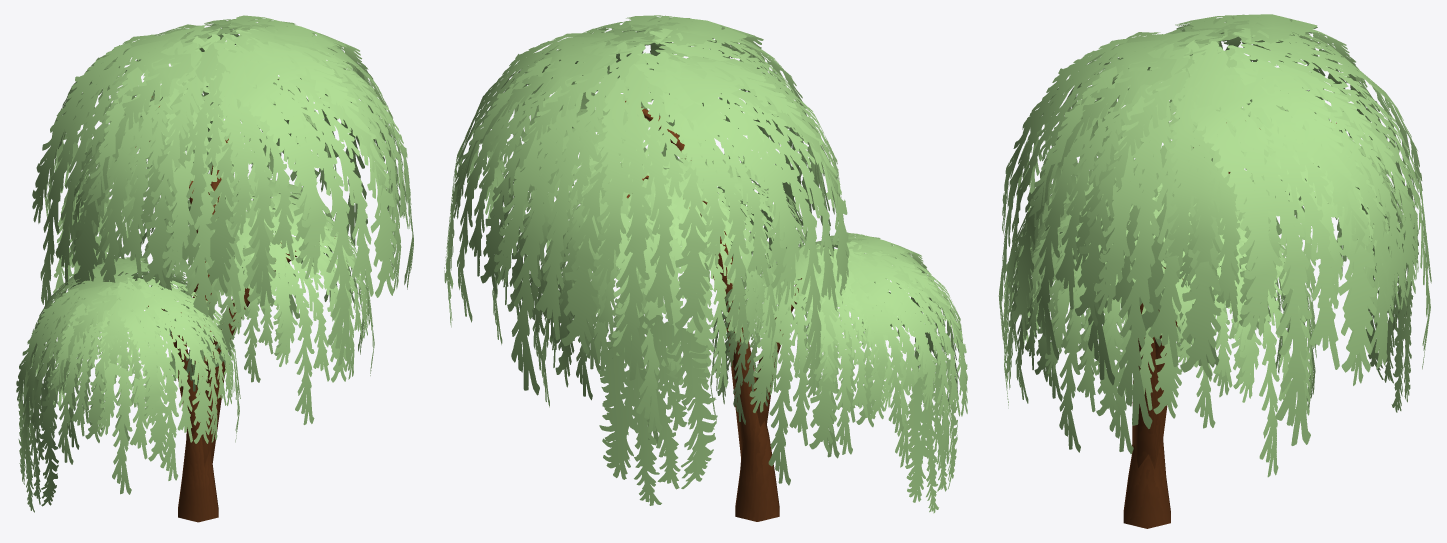
Rendered from STWillow1.glb.
3 renders of one model, left to right at view 1: azimuth 30°, elevation 25°; view 2: azimuth 150°, elevation 25°; view 3: azimuth 270°, elevation 25°, orthographic. The views are drawn at different scales.
Parts seen in each view (by area): view 1: WillowTree1; view 2: WillowTree1; view 3: WillowTree1.
Part boxes in pixels (box(x1,y1,x2,y2)): WillowTree1: box(16, 15, 413, 522); WillowTree1: box(444, 15, 967, 521); WillowTree1: box(998, 14, 1431, 528).
Size of the model in its own units: 13.7 by 14.19 by 10.82.
Materials: 2 (2 with a texture image).
